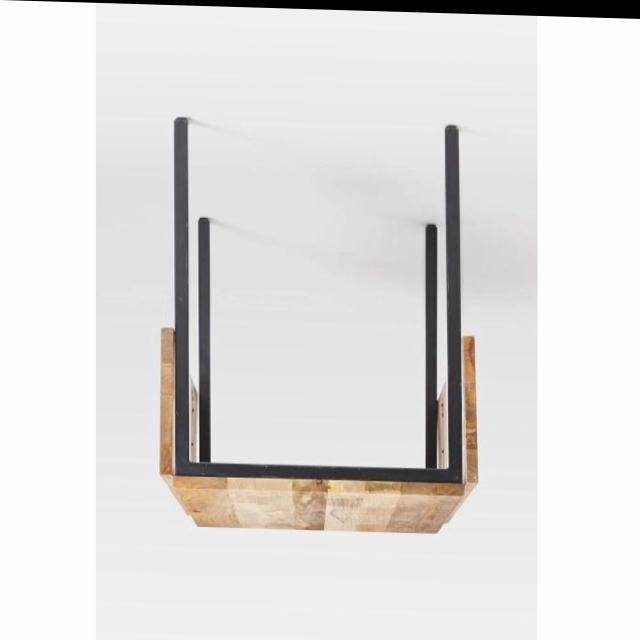Table: (136, 86, 496, 553)
